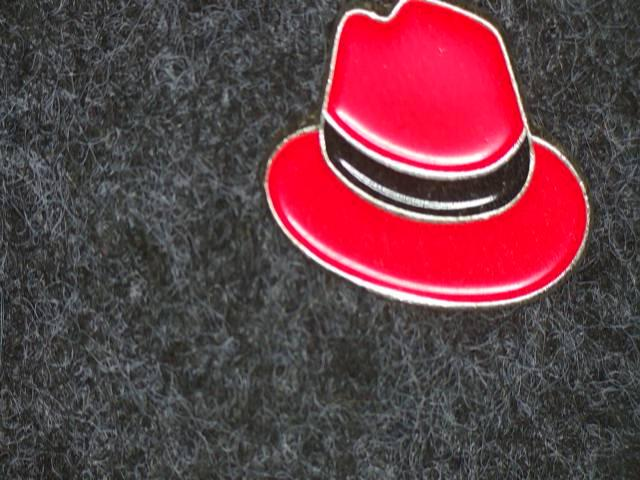Red-Hat: (245, 0, 606, 348)
